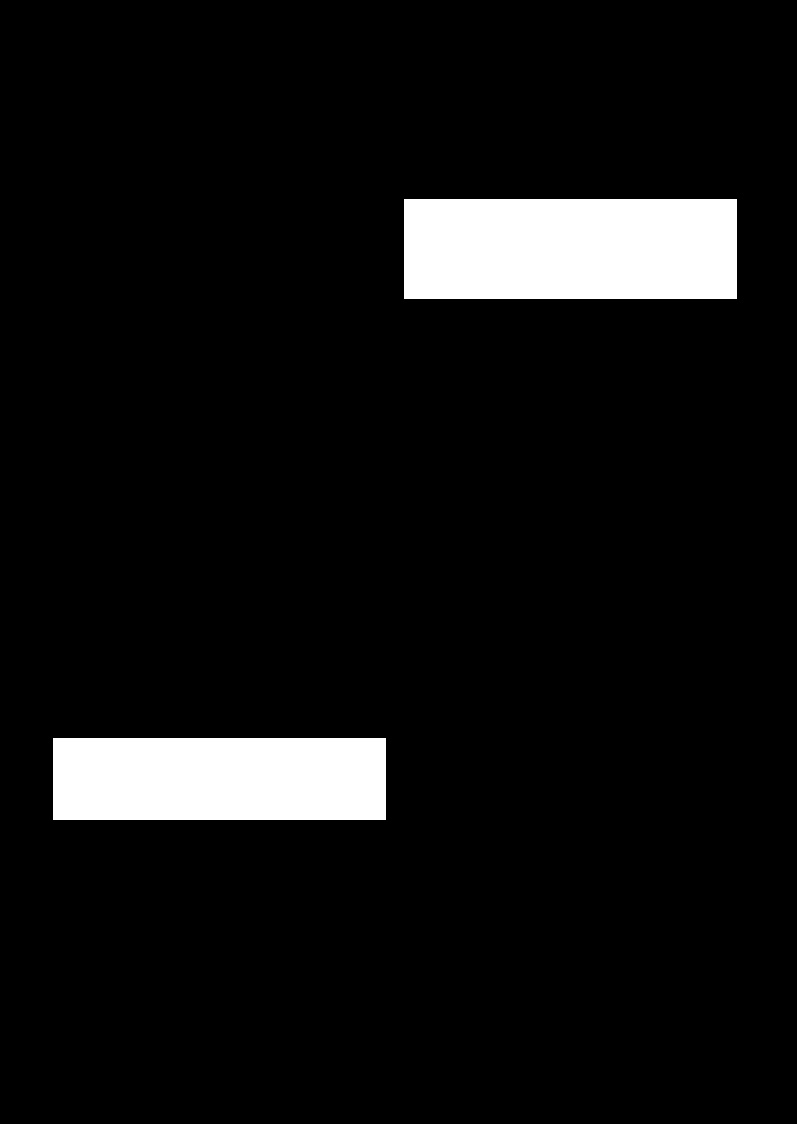table: (404, 199, 736, 298), (53, 738, 385, 819)
